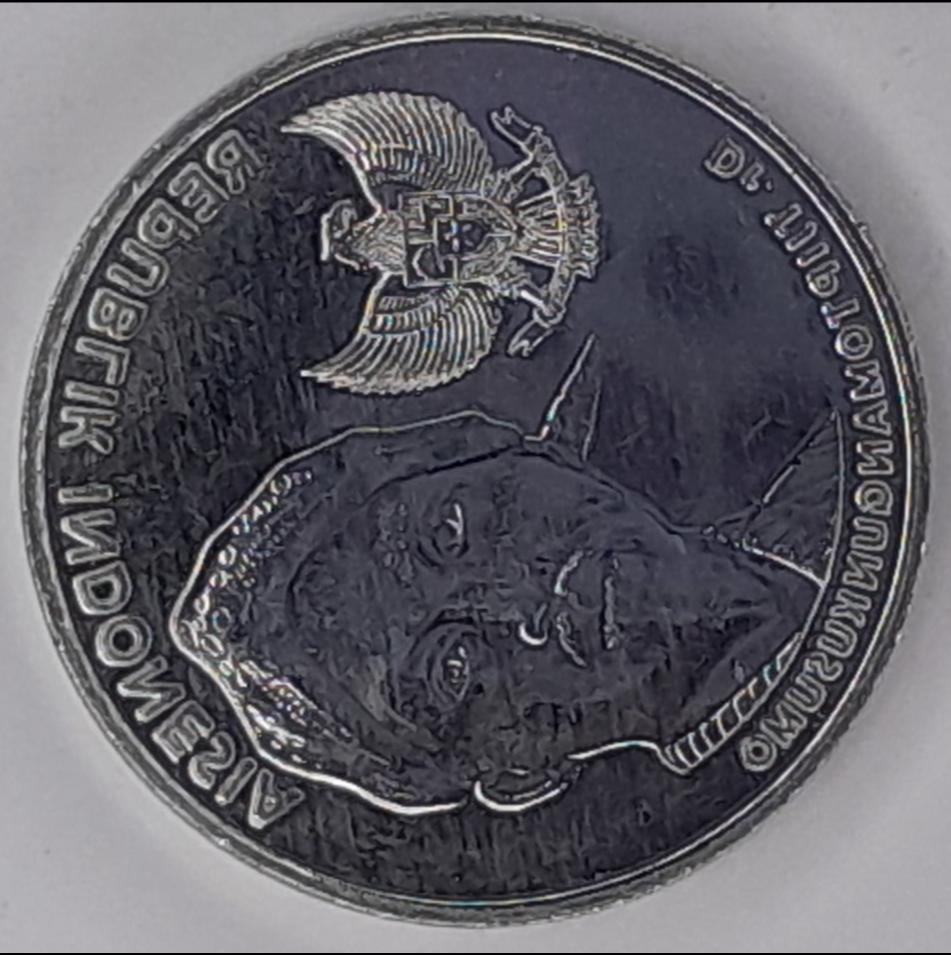coin_200_e2016: (0, 17, 951, 955)
